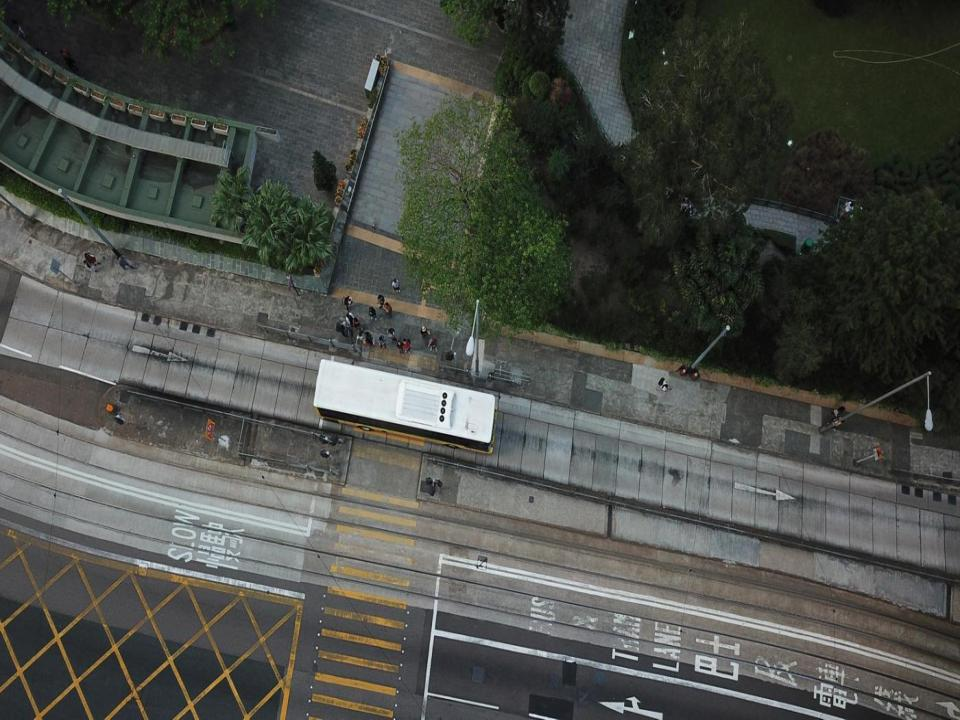bus: (314, 361, 498, 456)
